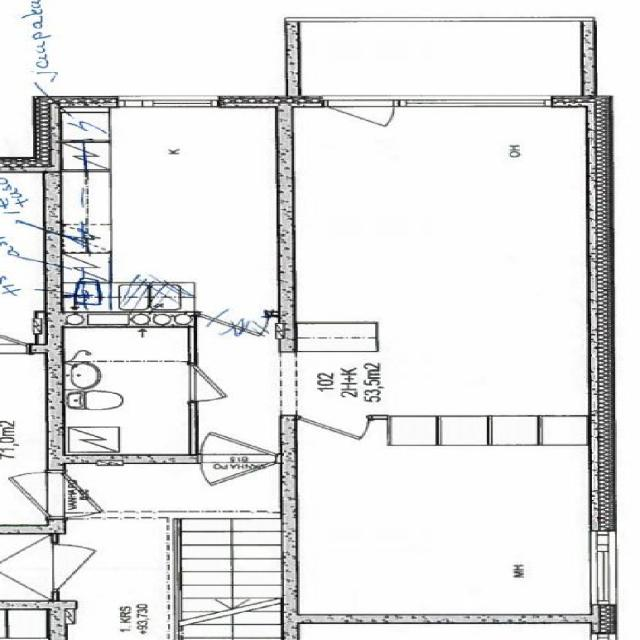door: (193, 444, 271, 489), (320, 94, 404, 135), (294, 414, 378, 442), (184, 360, 228, 407)
window: (577, 528, 628, 613), (401, 92, 553, 115), (265, 349, 303, 422), (112, 91, 228, 112), (183, 359, 225, 407)
zone: (288, 423, 613, 624), (59, 100, 291, 316), (57, 321, 196, 460), (49, 532, 181, 637), (0, 603, 65, 639)
